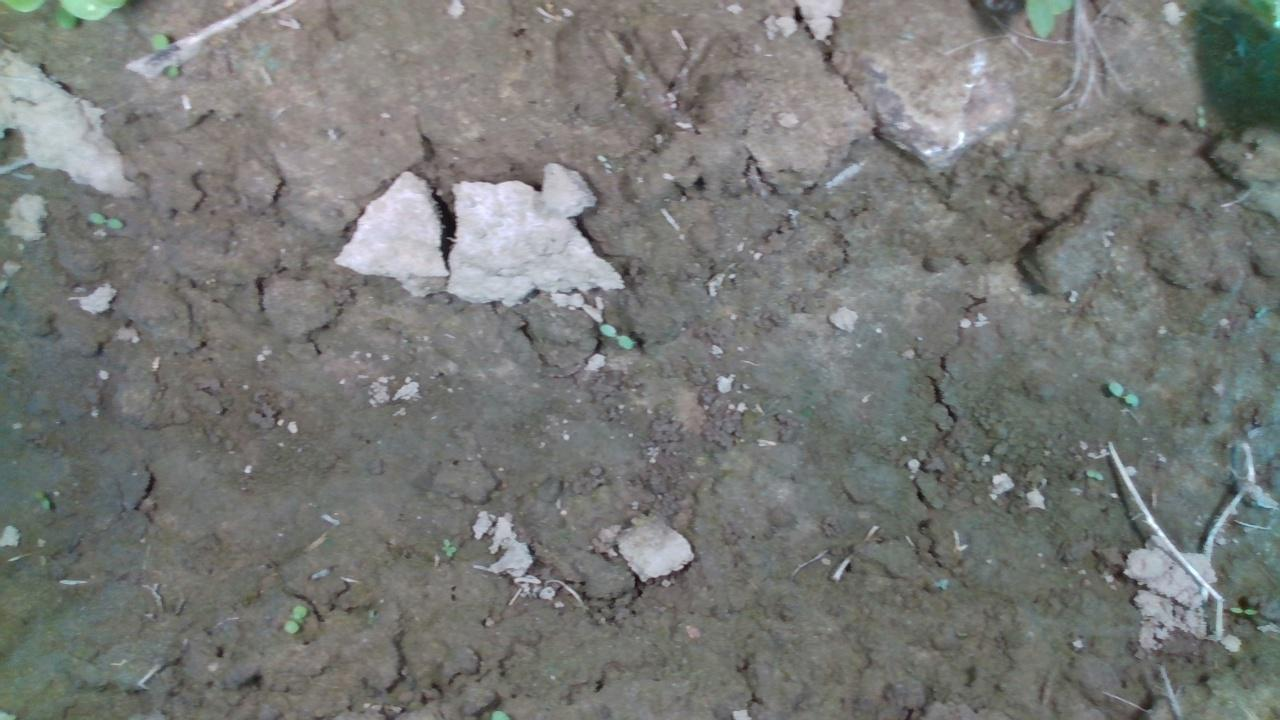weed: (591, 319, 642, 351)
